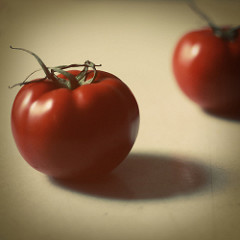tomato: (9, 62, 142, 175), (172, 23, 240, 110)
